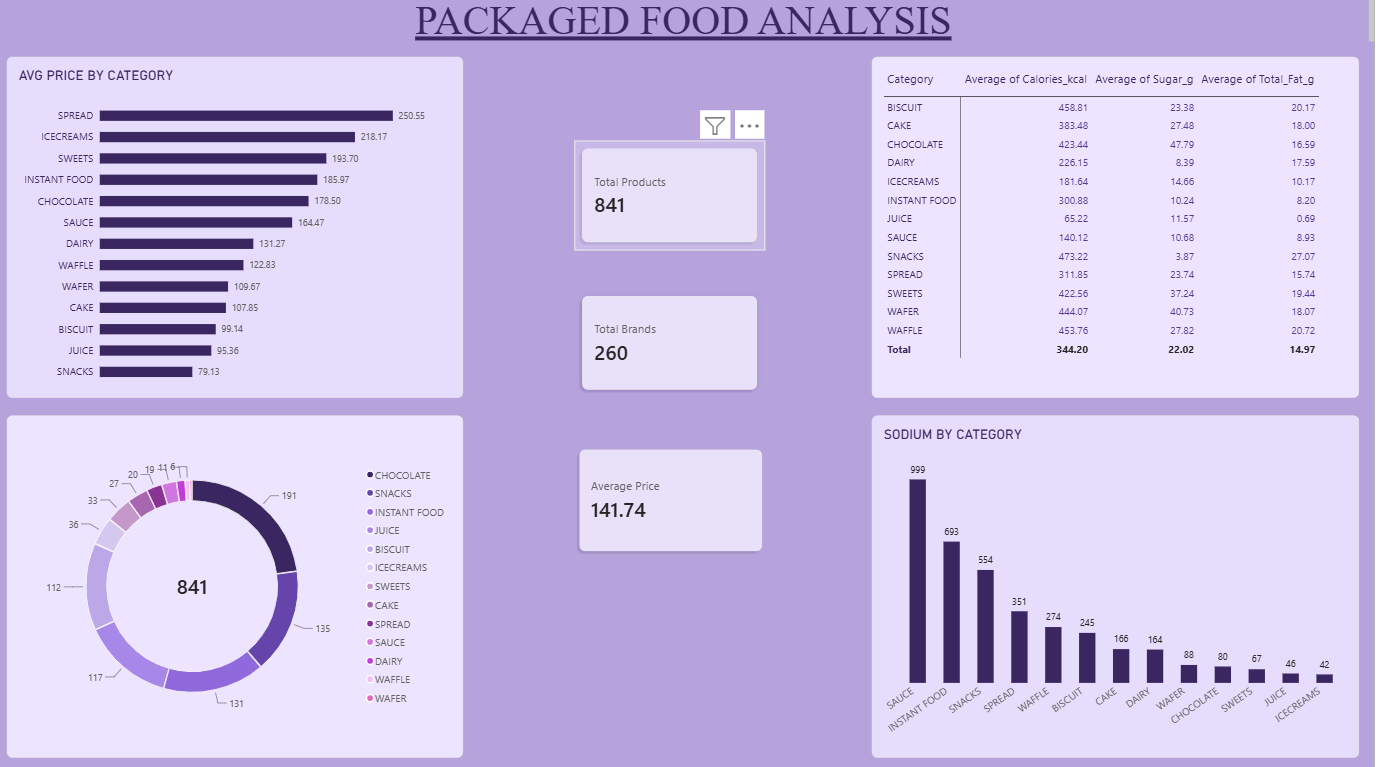

Layout of this report page (visuals, bound fields, positions):
{"tool":"powerbi","page":{"name":"Page 1","canvas":[1920,1080],"ordinal":0},"visuals":[{"type":"textbox","box":[0,0,1920.6,62.4],"z":0},{"type":"clusteredColumnChart","title":"SODIUM BY CATEGORY","fields":{"Category":["packaged_foods_india - cleaned.Category"],"Y":["Avg(packaged_foods_india - cleaned.Sodium_mg)"]},"box":[1219.2,582.6,680.2,477.9],"z":1000},{"type":"clusteredBarChart","title":"AVG PRICE BY CATEGORY","fields":{"Category":["packaged_foods_india - cleaned.Category"],"Y":["Avg(packaged_foods_india - cleaned.Price_INR)"]},"box":[12.2,82,636.6,476.2],"z":2000},{"type":"cardVisual","title":"TOTAL PRODUCTS","fields":{"Data":["packaged_foods_india - cleaned.Total Products"]},"box":[804.1,198.8,266.9,153.5],"z":3000},{"type":"cardVisual","fields":{"Data":["packaged_foods_india - cleaned.Total Brands"]},"box":[804.1,404.7,266.9,153.5],"z":4000},{"type":"cardVisual","title":"Average Price","fields":{"Data":["packaged_foods_india - cleaned.Average Price"]},"box":[805,624.4,266.9,153.5],"z":5000},{"type":"donutChart","fields":{"Category":["packaged_foods_india - cleaned.Category"],"Y":["CountNonNull(packaged_foods_india - cleaned.Item name)"]},"box":[12.2,582.6,636.6,477.9],"z":6000},{"type":"pivotTable","fields":{"Rows":["packaged_foods_india - cleaned.Category"],"Values":["Avg(packaged_foods_india - cleaned.Calories_kcal)","Avg(packaged_foods_india - cleaned.Sugar_g)","Avg(packaged_foods_india - cleaned.Total_Fat_g)"]},"box":[1219.2,82,680.2,476.2],"z":7000}]}

Visuals, with their boxes in screenshot pixels (x1, y1, x2, y2), scaled from the page's 1920x1080 canvas onto the 1376x767 screenshot:
textbox: {"x1": 0, "y1": 0, "x2": 1375, "y2": 44}
"SODIUM BY CATEGORY" clusteredColumnChart: {"x1": 874, "y1": 414, "x2": 1361, "y2": 753}
"AVG PRICE BY CATEGORY" clusteredBarChart: {"x1": 9, "y1": 58, "x2": 465, "y2": 396}
"TOTAL PRODUCTS" cardVisual: {"x1": 576, "y1": 141, "x2": 768, "y2": 250}
cardVisual - packaged_foods_india - cleaned.Total Brands: {"x1": 576, "y1": 287, "x2": 768, "y2": 396}
"Average Price" cardVisual: {"x1": 577, "y1": 443, "x2": 768, "y2": 552}
donutChart - packaged_foods_india - cleaned.Category x CountNonNull(packaged_foods_india - cleaned.Item name): {"x1": 9, "y1": 414, "x2": 465, "y2": 753}
pivotTable - packaged_foods_india - cleaned.Category x Avg(packaged_foods_india - cleaned.Calories_kcal): {"x1": 874, "y1": 58, "x2": 1361, "y2": 396}
